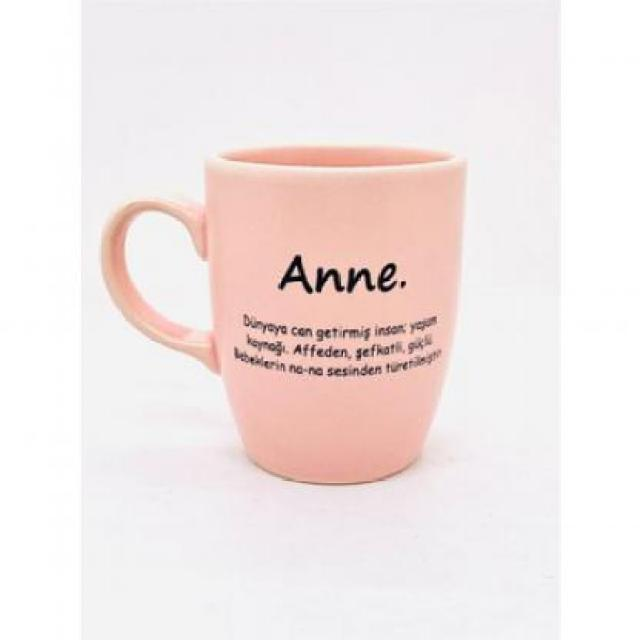taza: (99, 143, 468, 485)
